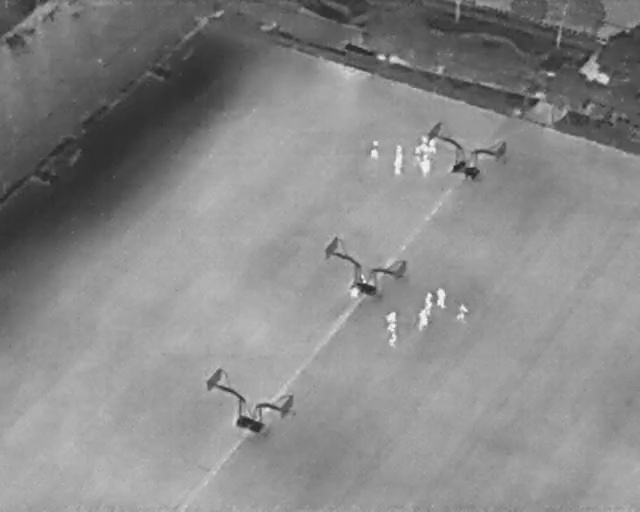Person: (435, 288, 448, 310), (417, 309, 429, 332), (457, 302, 471, 321), (412, 137, 428, 152), (419, 156, 431, 175), (393, 156, 404, 175), (423, 291, 433, 311), (370, 140, 380, 160), (393, 145, 404, 160), (388, 332, 397, 348), (386, 310, 397, 323), (349, 285, 359, 299), (428, 139, 438, 153), (387, 323, 397, 333)
